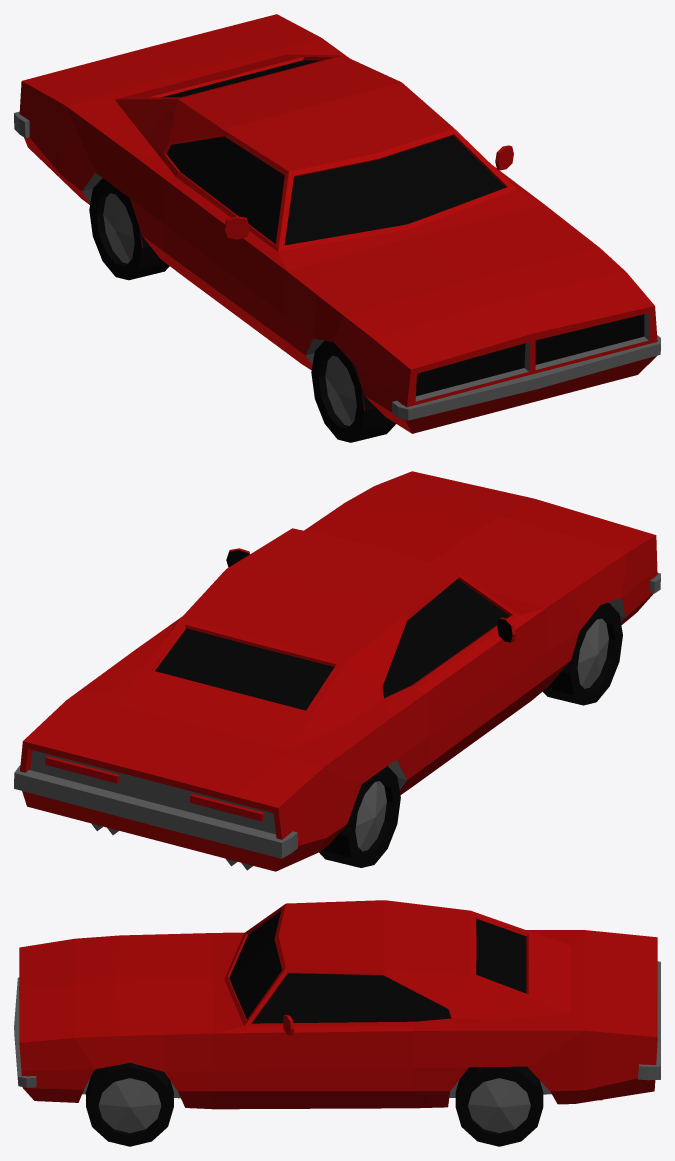
The model's file is car1.fbx.
The picture shows the model from 3 angles, top to bottom: view 1: azimuth 30°, elevation 25°; view 2: azimuth 150°, elevation 25°; view 3: azimuth 270°, elevation 25°; orthographic projection. The views are drawn at different scales.
Parts seen in each view (by area): view 1: car, wheeles; view 2: car, wheeles; view 3: car, wheeles.
Boxes of the visible parts, left/top/right/bottom form: car: left=14, top=14, right=660, bottom=433; wheeles: left=89, top=178, right=395, bottom=442; car: left=14, top=471, right=660, bottom=871; wheeles: left=319, top=602, right=622, bottom=867; car: left=14, top=900, right=660, bottom=1109; wheeles: left=86, top=1062, right=543, bottom=1146.
Bounding box in the file's own units: 137 × 87.08 × 319.
